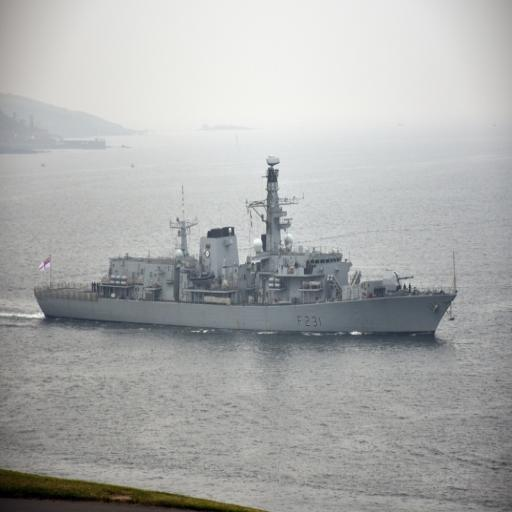Fragata: (31, 152, 464, 346)
